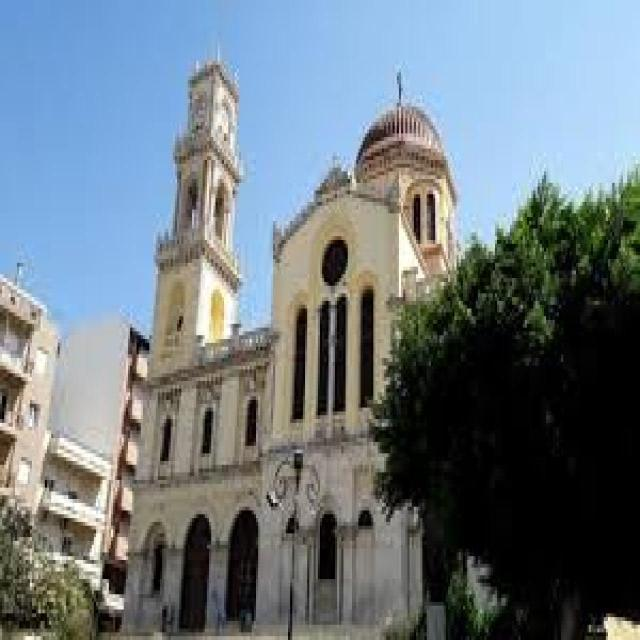Agios Minas: (127, 1, 467, 640)
